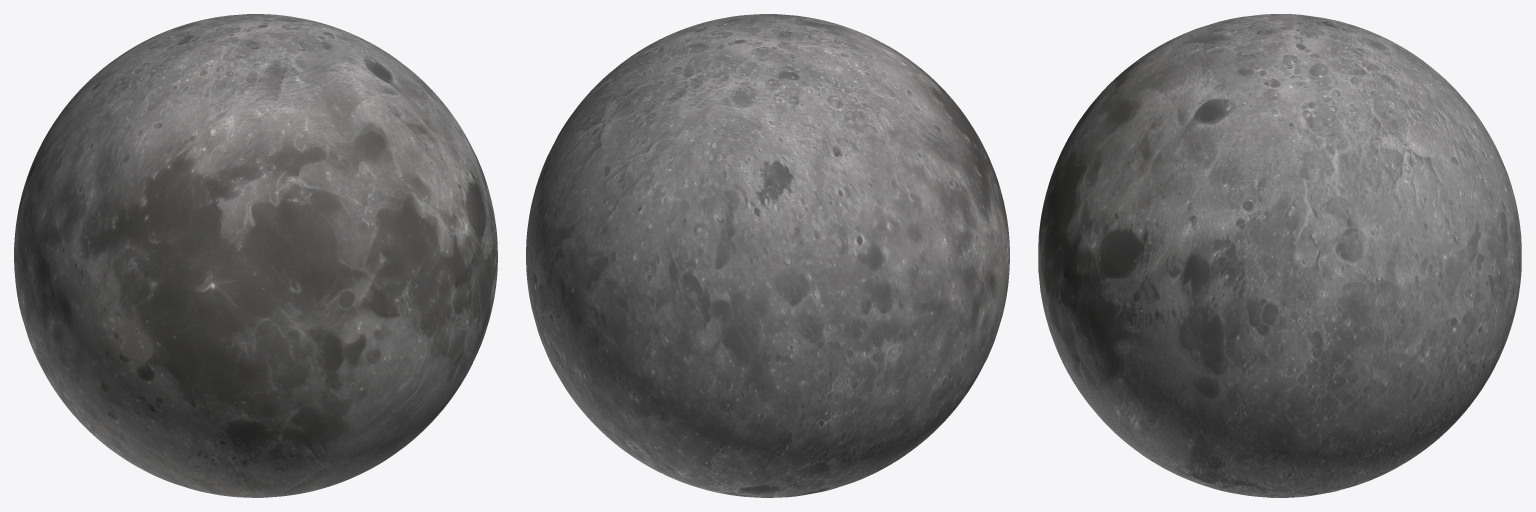
File: PlanetMoon.glb
3 views of the same model, side by side, from view 1: azimuth 30°, elevation 25°; view 2: azimuth 150°, elevation 25°; view 3: azimuth 270°, elevation 25° (orthographic).
Parts seen in each view (by area): view 1: Moon; view 2: Moon; view 3: Moon.
Boxes of the visible parts, x1=… form: Moon: x1=14, y1=14, x2=497, y2=497; Moon: x1=526, y1=14, x2=1009, y2=497; Moon: x1=1038, y1=14, x2=1521, y2=497.
Size of the model in its own units: 2 by 2 by 2.
Materials: 1 (1 with a texture image).
